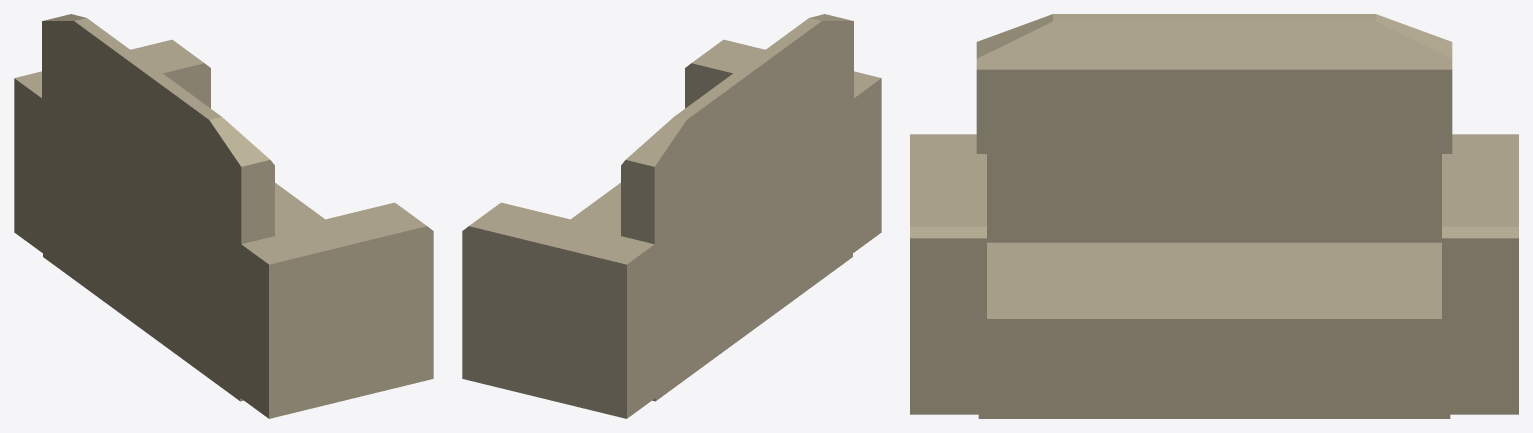
Rendered from coach.fbx.
The picture shows the model from 3 angles, left to right: view 1: azimuth 30°, elevation 25°; view 2: azimuth 150°, elevation 25°; view 3: azimuth 270°, elevation 25°; orthographic projection. The views are drawn at different scales.
Parts seen in each view (by area): view 1: couch:Union1; view 2: couch:Union1; view 3: couch:Union1.
Boxes of the visible parts, x1=… form: couch:Union1: x1=14, y1=14, x2=433, y2=418; couch:Union1: x1=462, y1=14, x2=881, y2=418; couch:Union1: x1=910, y1=14, x2=1518, y2=418.
Size of the model in its own units: 30824 by 46302 by 82675.
